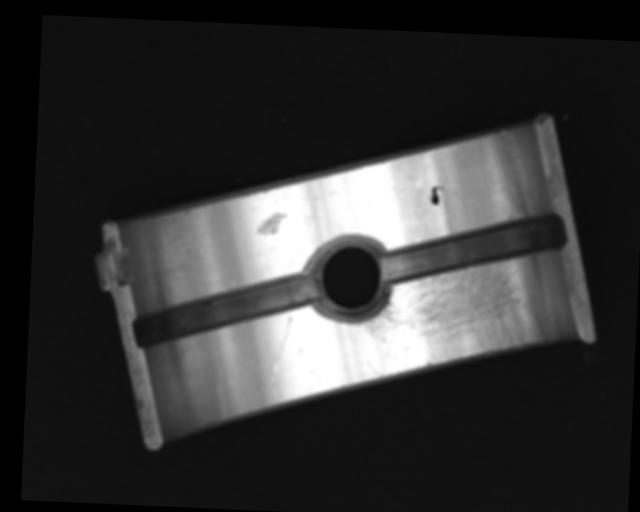blot: (429, 185, 445, 206)
bruise: (255, 211, 286, 238)
gap: (132, 264, 317, 354), (380, 205, 567, 293)
hole: (311, 233, 392, 321)
nick: (271, 315, 292, 381)
scratch: (355, 245, 545, 383)
